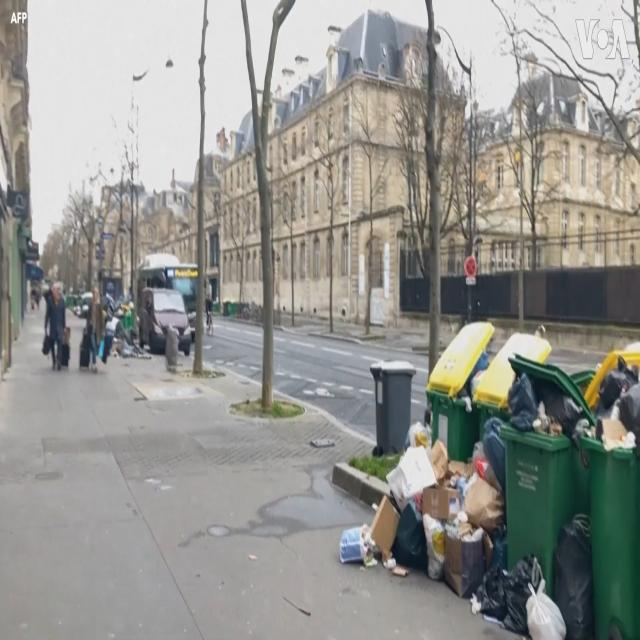high trash: (340, 422, 594, 638), (508, 358, 640, 451)
